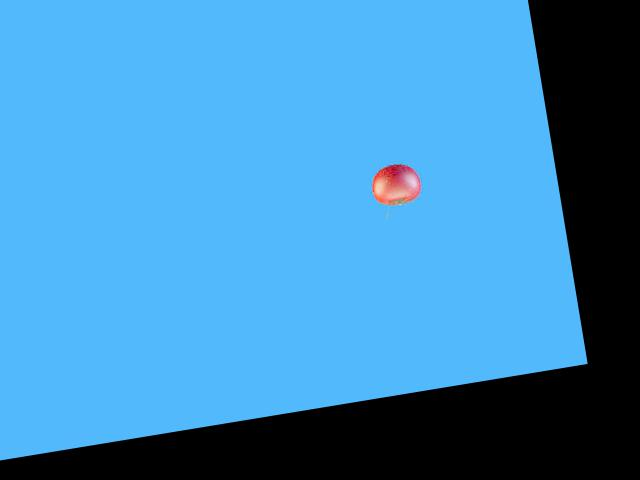tomato: (369, 160, 424, 208)
